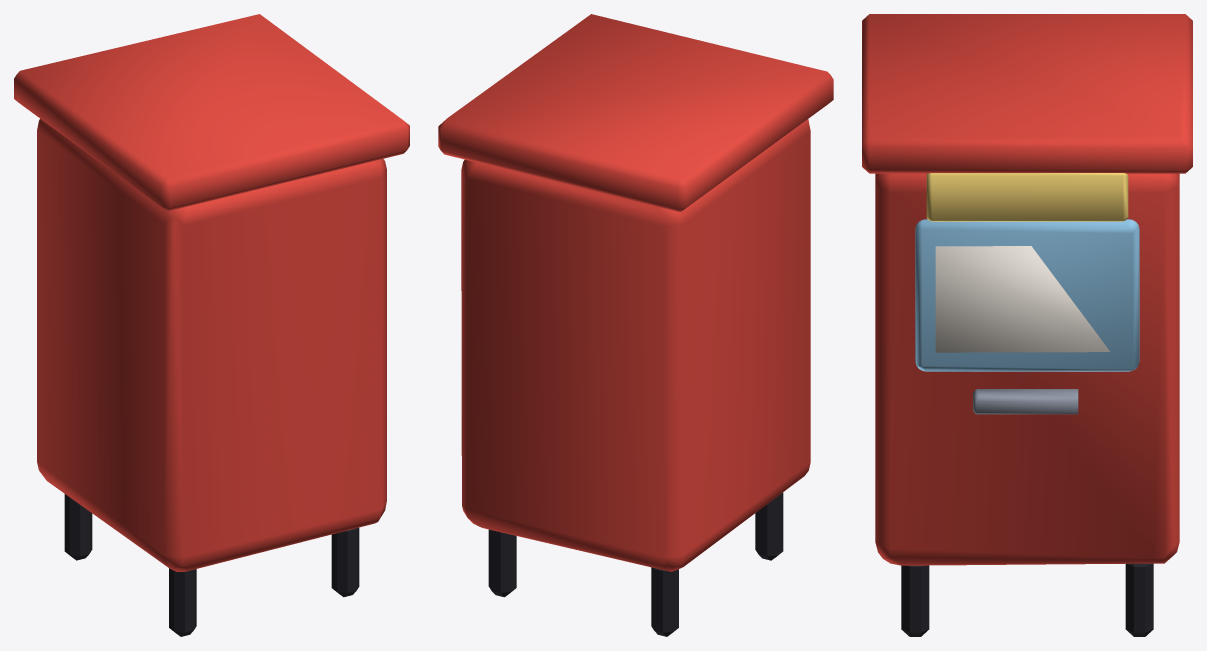
The model's file is newsbox.glb.
3 views of the same model, side by side, from view 1: azimuth 30°, elevation 25°; view 2: azimuth 150°, elevation 25°; view 3: azimuth 270°, elevation 25° (orthographic). The views are drawn at different scales.
Parts seen in each view (by area): view 1: newsbox; view 2: newsbox; view 3: newsbox.
Part boxes in pixels (bbox=[...]): newsbox: bbox=[14, 14, 409, 636]; newsbox: bbox=[438, 14, 833, 636]; newsbox: bbox=[862, 14, 1192, 636].
Size of the model in its own units: 0.5675 by 1.02 by 0.5899.
Materials: 1 (1 with a texture image).
